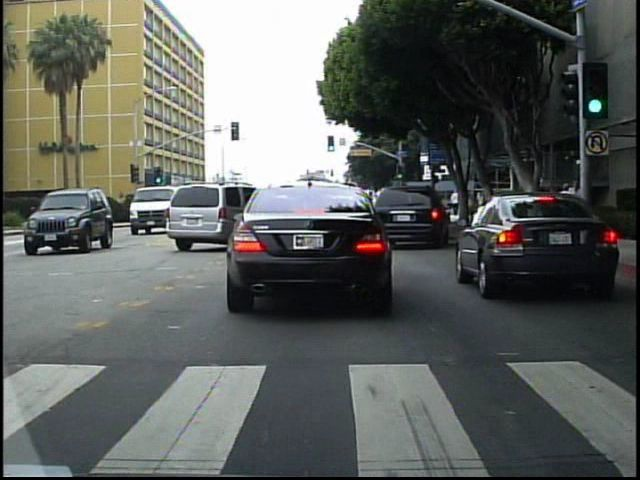person: (570, 174, 588, 236), (450, 187, 459, 218)
